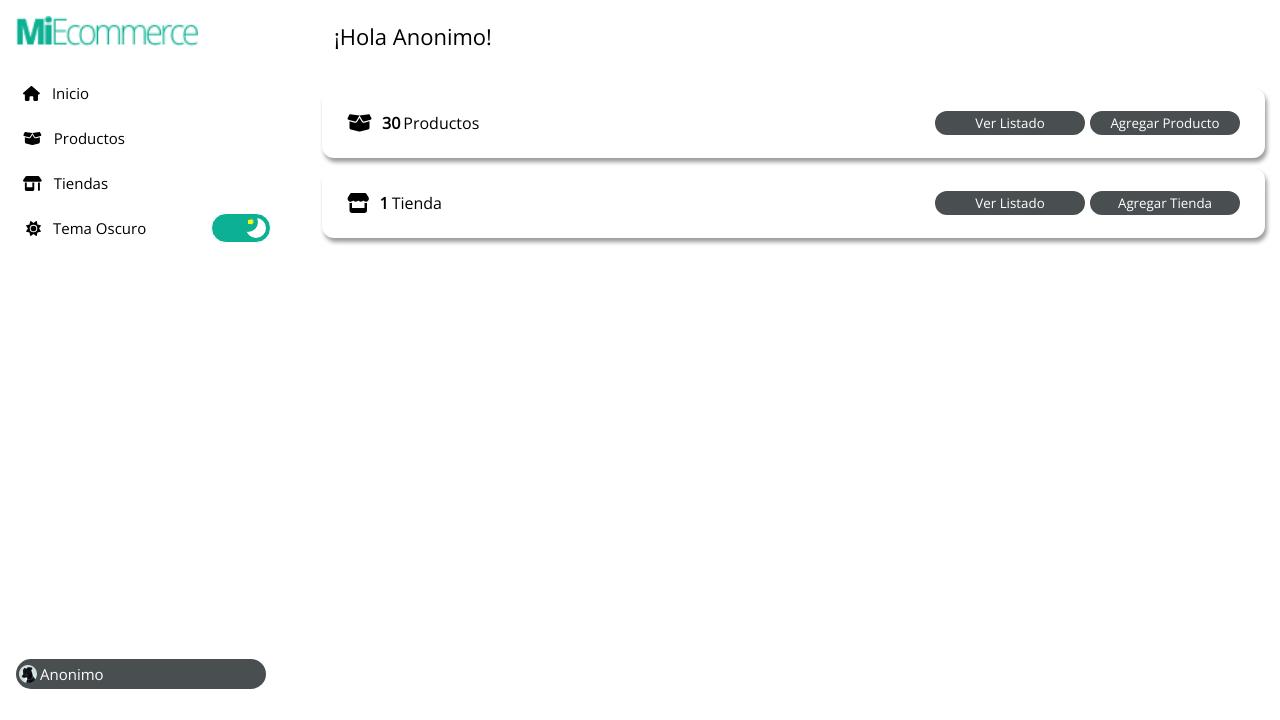
Test: Testeo de toda la navegacion › Al dar click para acceder a la ruta profile debe aparecer la vista de error404
Click the link named "profilepic".
click(16, 659)  # box x1=16 y1=659 x2=266 y2=689
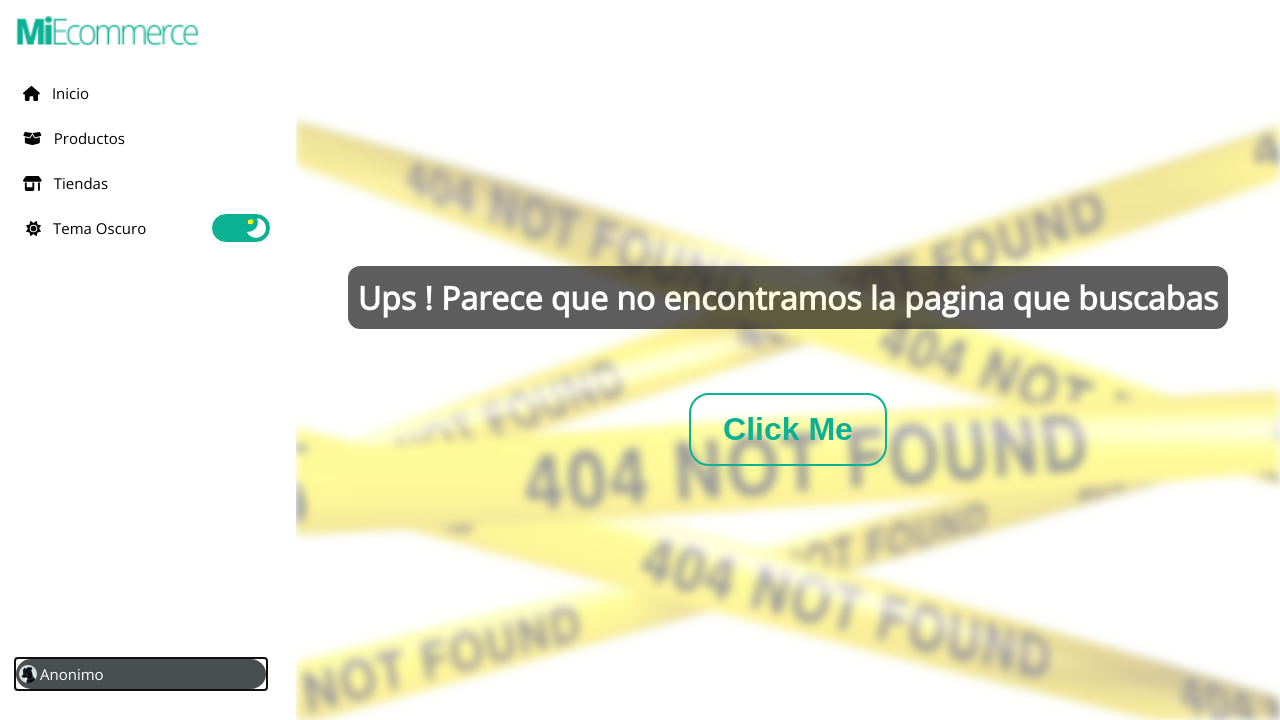
Check: the heading "Ups ! Parece que no encontramos la pagina que buscabas" is shown, box x1=358 y1=276 x2=1218 y2=318
